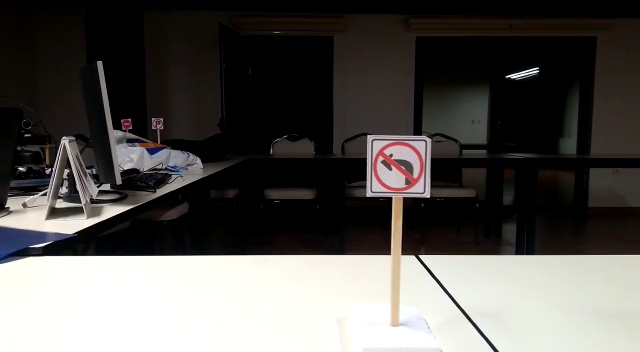sola_donulmez: (371, 139, 422, 189)
